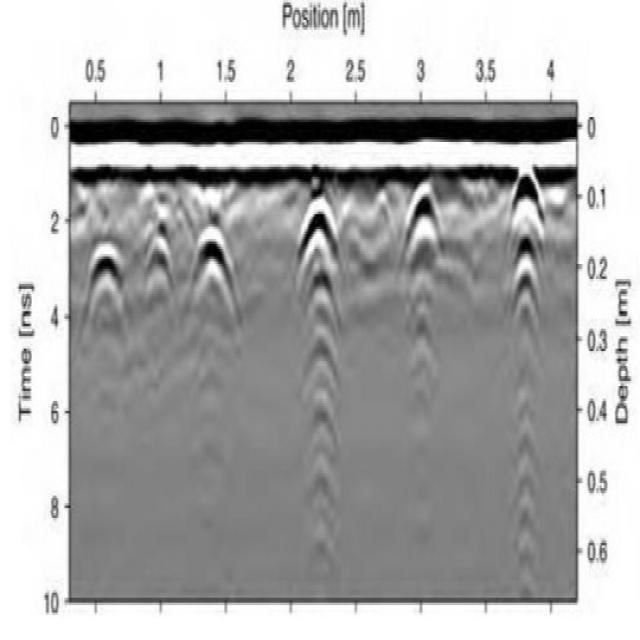hyperbola: (285, 190, 357, 332), (177, 214, 251, 352), (495, 172, 558, 326), (395, 180, 451, 327), (74, 226, 137, 355)
